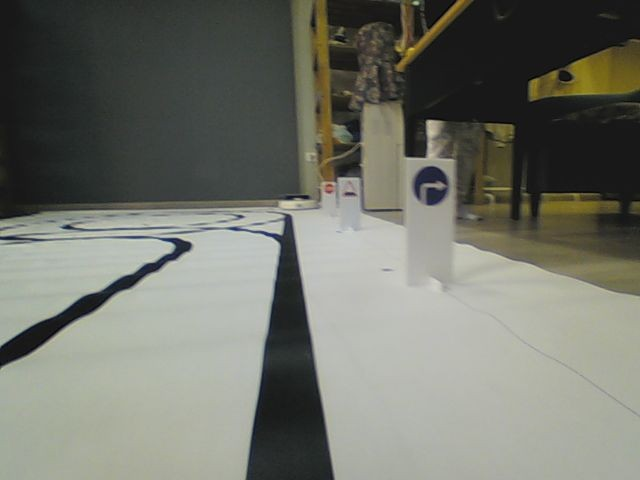Right: (410, 164, 449, 206)
